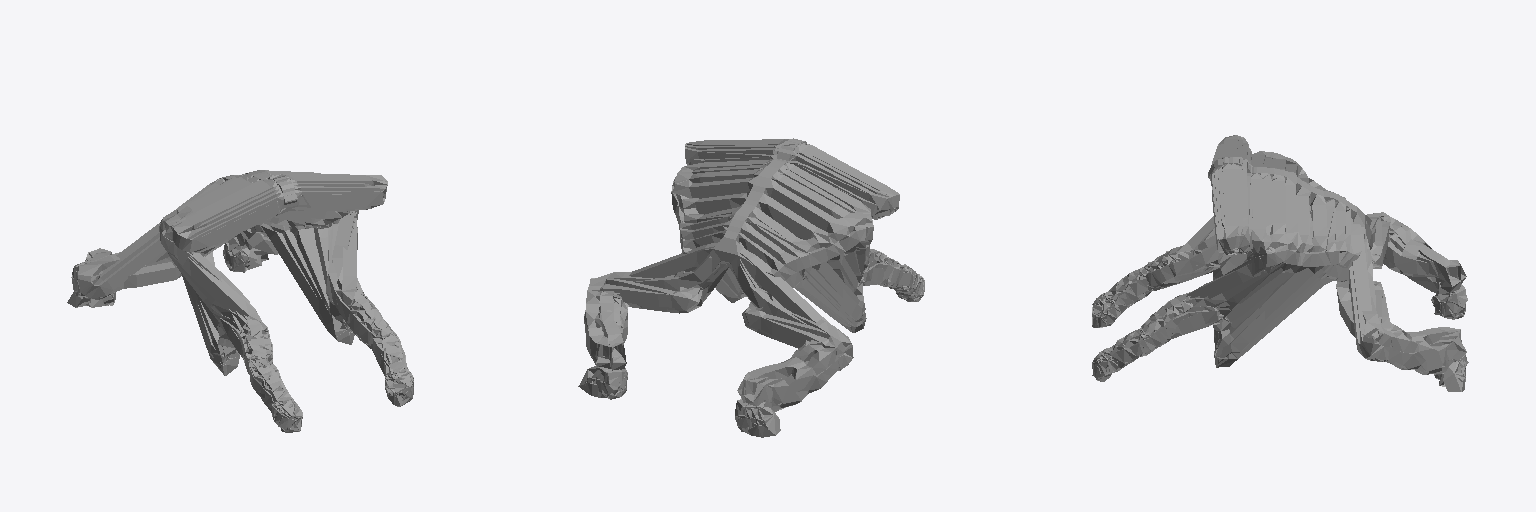
Rendered from nothum1.obj.
The picture shows the model from 3 angles: view 1: azimuth 30°, elevation 25°; view 2: azimuth 150°, elevation 25°; view 3: azimuth 270°, elevation 25°; orthographic projection.
Parts seen in each view (by area): view 1: Cube; view 2: Cube; view 3: Cube.
Part boxes in pixels (left/top/right/bottom): Cube: left=67, top=170, right=413, bottom=432; Cube: left=578, top=138, right=924, bottom=437; Cube: left=1092, top=135, right=1468, bottom=391.
Size of the model in its own units: 10.84 by 7.58 by 13.44.